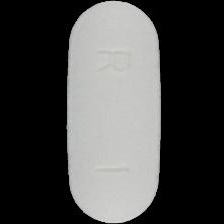55154-1413: (0, 0, 224, 224)
